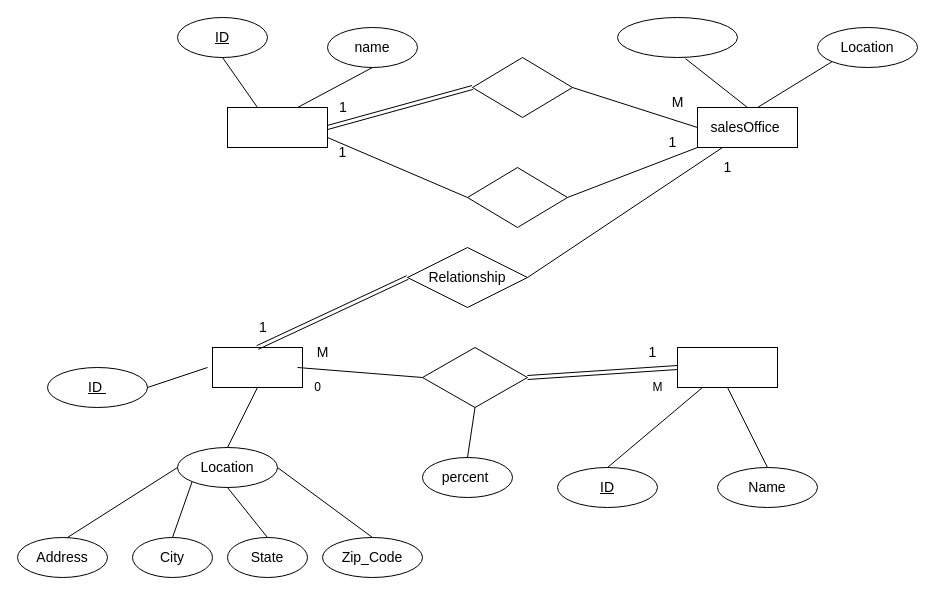
The diagram is 935 pixels wide and 595 high, and some of its shapes have lost their labels. Here are the shapes that lost their labels. From the top down, the centre of each, then its label:
pixel 677 37: Office_Number
pixel 522 87: has
pixel 277 127: employee
pixel 517 197: manage
pixel 257 367: property
pixel 475 377: have
pixel 727 367: owners
